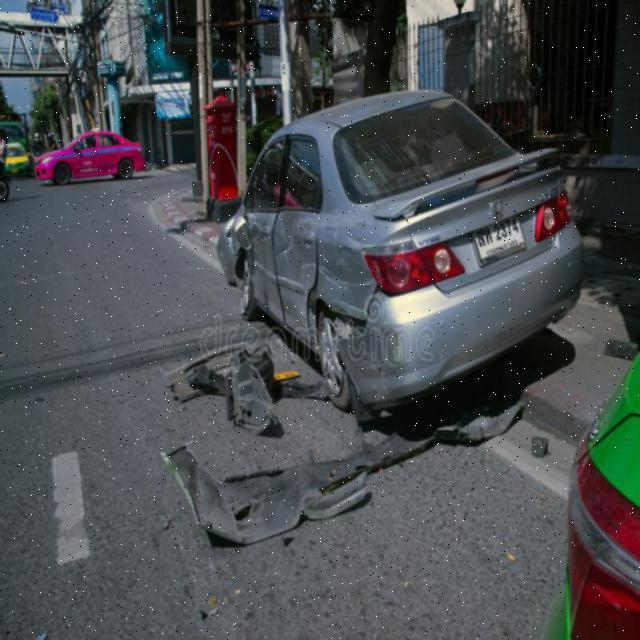doorouter-dent: (276, 212, 318, 336), (245, 212, 278, 311)
quaterpanel-dent: (320, 222, 400, 328)
rear-bumper-dent: (328, 310, 442, 414)
